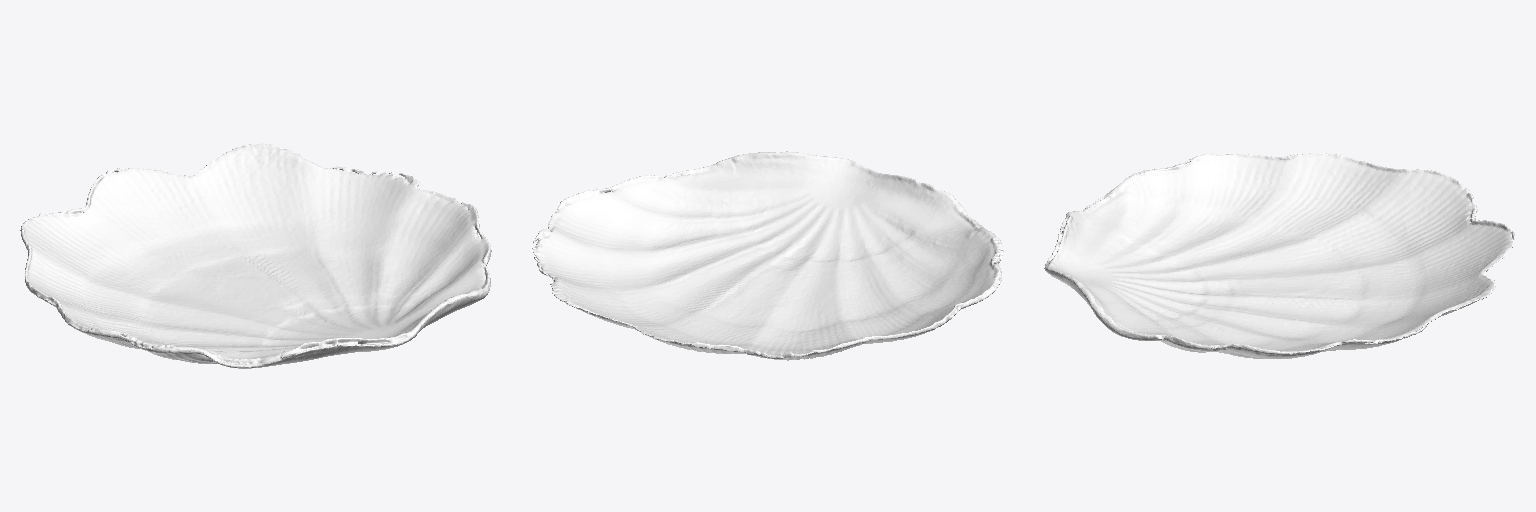
robot.urdf — model.urdf:
<robot name="model.urdf">
    <link name="baseLink">
        <contact>
            <lateral_friction value="0.6"/>
            <rolling_friction value="0.001"/>
            <spinning_friction value="0.001"/>
            <contact_cfm value="0.0"/>
            <contact_erp value="1.0"/>
        </contact>
        <inertial>
            <origin rpy="0 0 0" xyz="0 -0.05 0.0"/>
            <mass value="1.5"/>
            <inertia ixx="1e-3" ixy="0" ixz="0" iyy="1e-3" iyz="0" izz="1e-3"/>
        </inertial>
        <visual>
            <geometry>
                <mesh filename="nontextured.stl" scale="1 1 1"/>
            </geometry>
            <material name="white">
                <color rgba="1 1 1 1"/>
            </material>
        </visual>
        <collision>
            <geometry>
                <mesh filename="nontextured.stl" scale="1 1 1"/>
            </geometry>
        </collision>
    </link>
</robot>

--- Render facts (derived) ---
Views: 3 orthographic renders of the robot side by side, from view 1: azimuth 30°, elevation 25°; view 2: azimuth 150°, elevation 25°; view 3: azimuth 270°, elevation 25°.
Robot: model.urdf — 1 links, 0 joints (none); root link baseLink; default pose: every joint at zero.
Visible links, largest first — view 1: baseLink; view 2: baseLink; view 3: baseLink.
Link boxes in pixels (x1,y1,x2,y2): baseLink: (20, 143, 491, 368); baseLink: (532, 151, 1003, 360); baseLink: (1044, 153, 1514, 358).
Size in the robot's own frame: 0.2982 by 0.2952 by 0.0383 metres.
Meshes: 1 distinct files referenced, 1 mesh visuals loaded (1 binary STL).